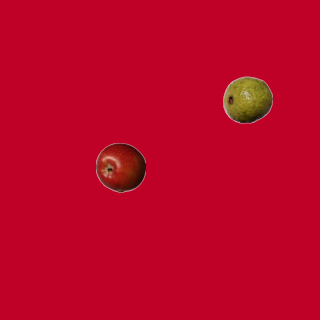Apple Braeburn: (95, 142, 145, 192)
Guava: (222, 74, 272, 124)
